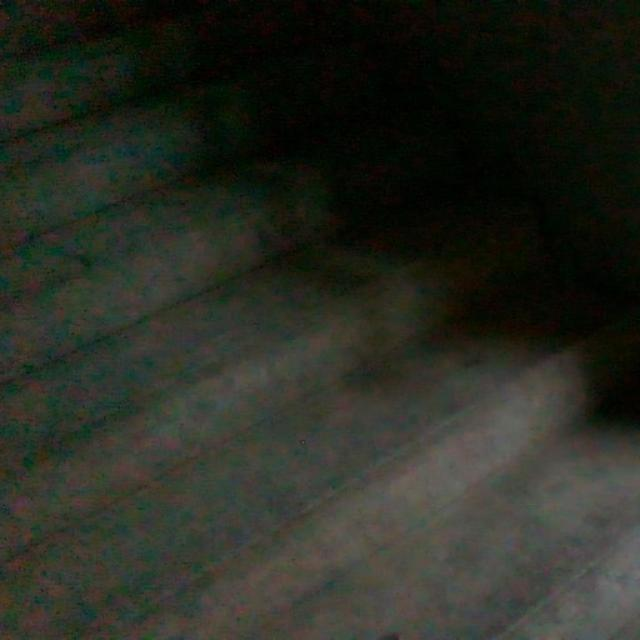stair: (0, 14, 629, 618)
